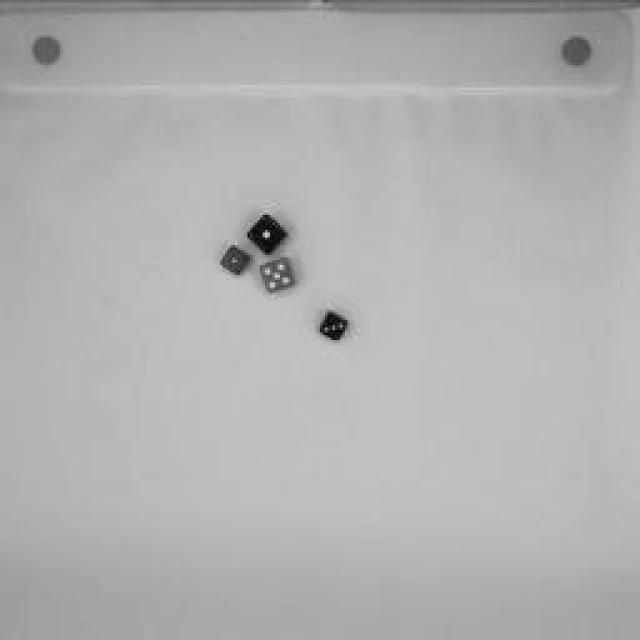dice_1: (242, 211, 290, 259), (214, 242, 254, 278)
dice_3: (314, 301, 356, 349)
dice_5: (252, 248, 302, 302)
